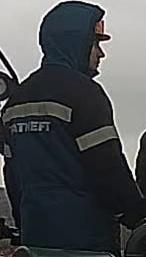helmet: (88, 15, 114, 45)
vest: (0, 63, 145, 256)
